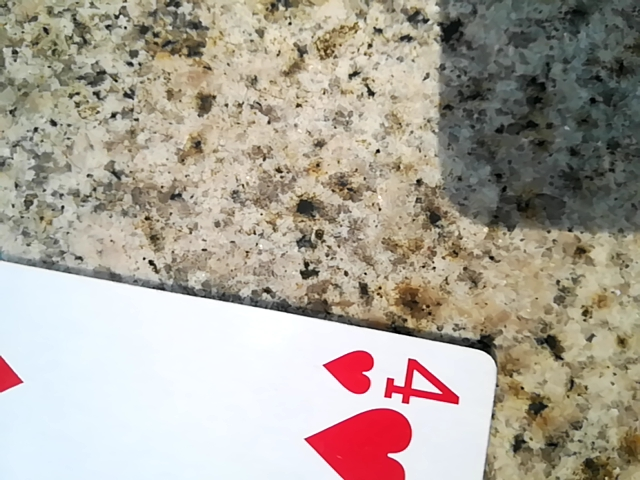hx 4: (0, 229, 501, 479)
